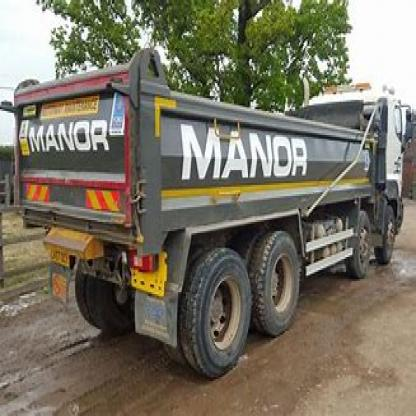dump_truck: (10, 37, 407, 377)
